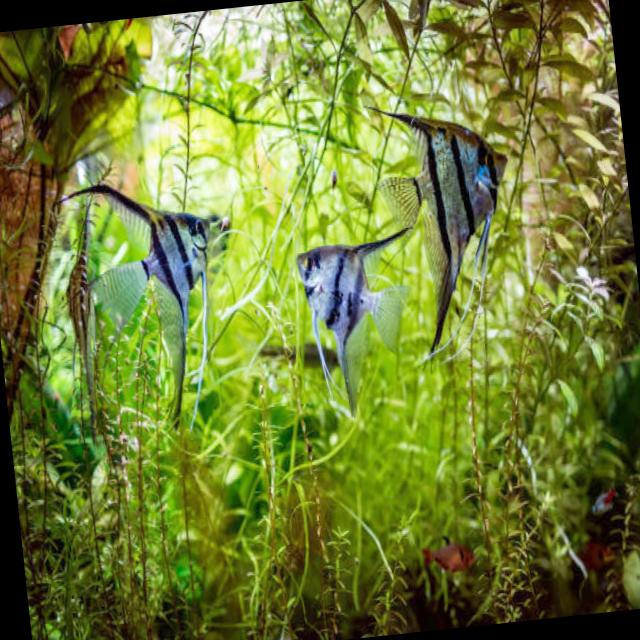AngelFish: (51, 162, 230, 440), (372, 90, 528, 368), (288, 223, 431, 410)
